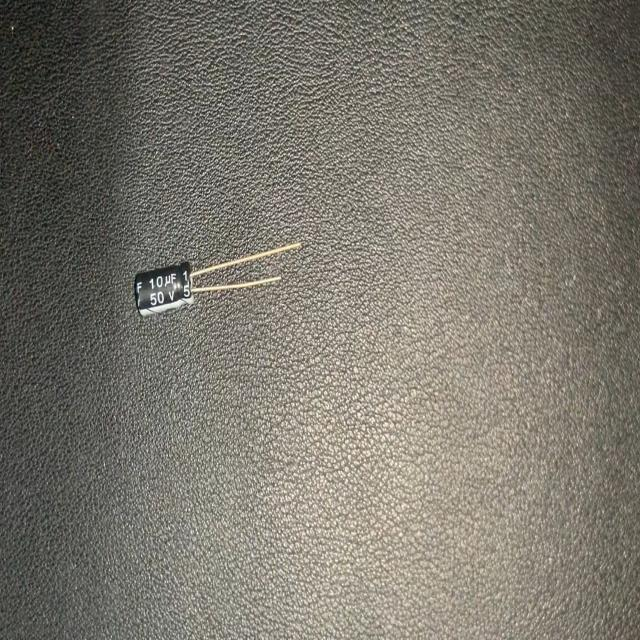capacitor: (134, 240, 300, 322)
